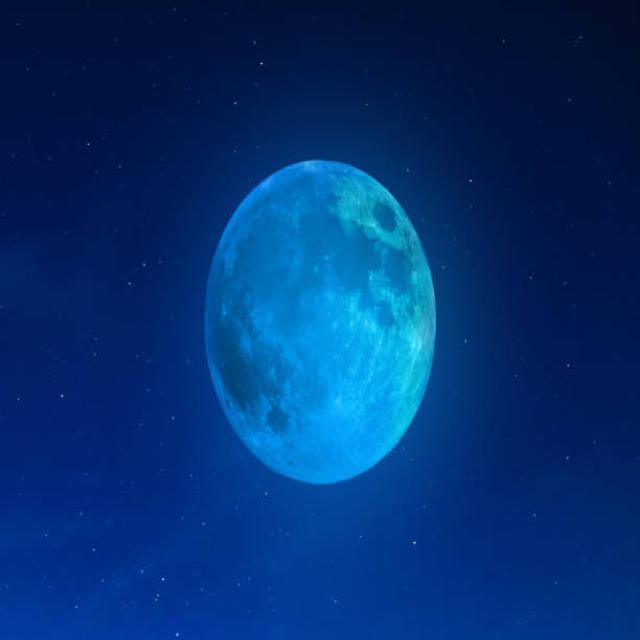moon: (202, 159, 442, 484)
